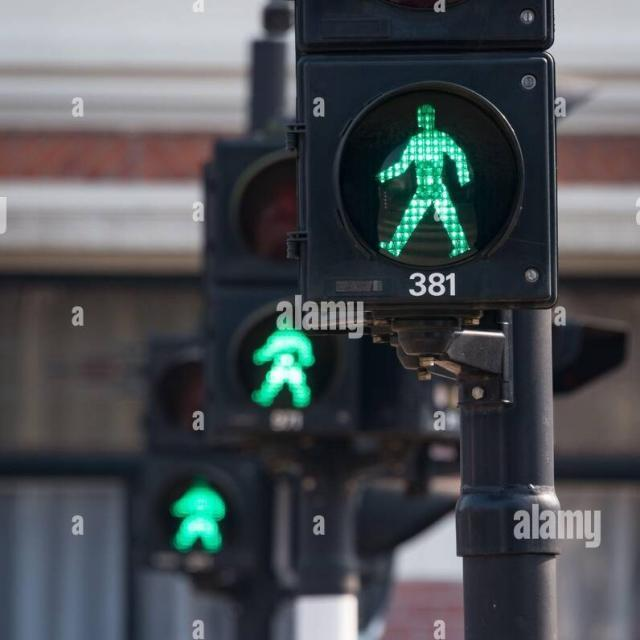geen-crossing: (372, 90, 482, 262)
